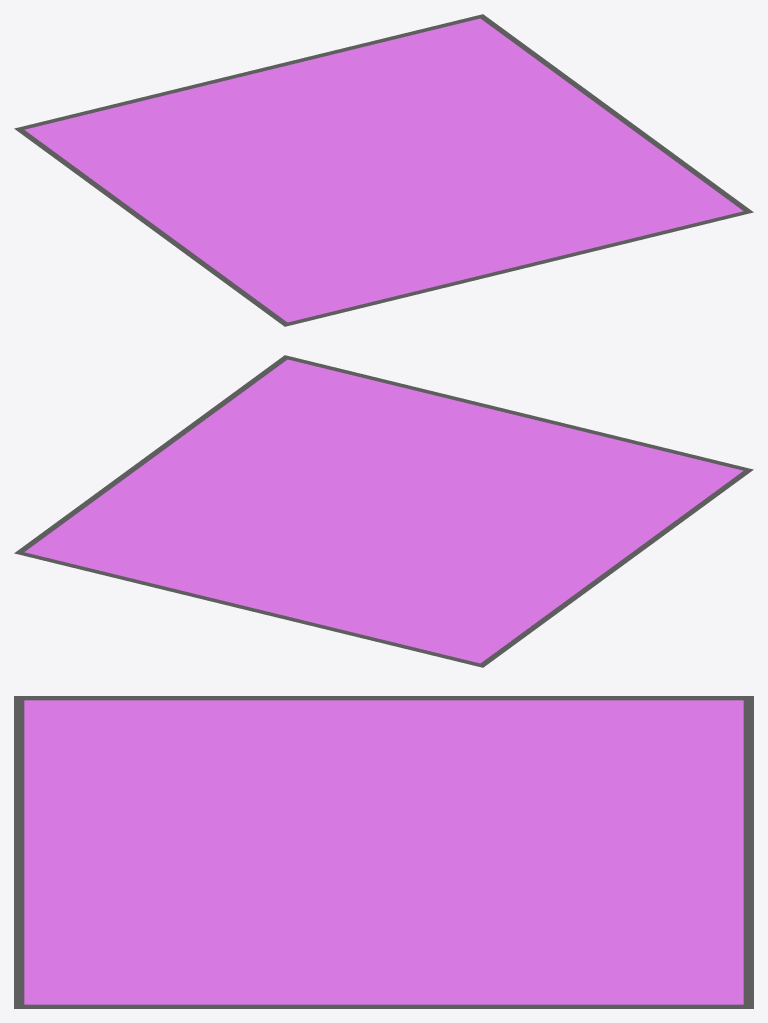
The model's file is SI_Env_Floor_01.fbx.
The picture shows the model from 3 angles, top to bottom: view 1: azimuth 30°, elevation 25°; view 2: azimuth 150°, elevation 25°; view 3: azimuth 270°, elevation 25°; orthographic projection. The views are drawn at different scales.
Visible parts, largest first — view 1: SI_Env_Floor_01, SI_Env_Floor_01.001; view 2: SI_Env_Floor_01, SI_Env_Floor_01.001; view 3: SI_Env_Floor_01, SI_Env_Floor_01.001.
Boxes of the visible parts, x1,y1,x2,y2 form: SI_Env_Floor_01: (24, 18, 743, 322); SI_Env_Floor_01.001: (14, 14, 753, 326); SI_Env_Floor_01: (24, 359, 743, 663); SI_Env_Floor_01.001: (14, 355, 753, 667); SI_Env_Floor_01: (24, 700, 743, 1004); SI_Env_Floor_01.001: (14, 696, 753, 1008).
Size of the model in its own units: 5 by 9.74e-07 by 5.
